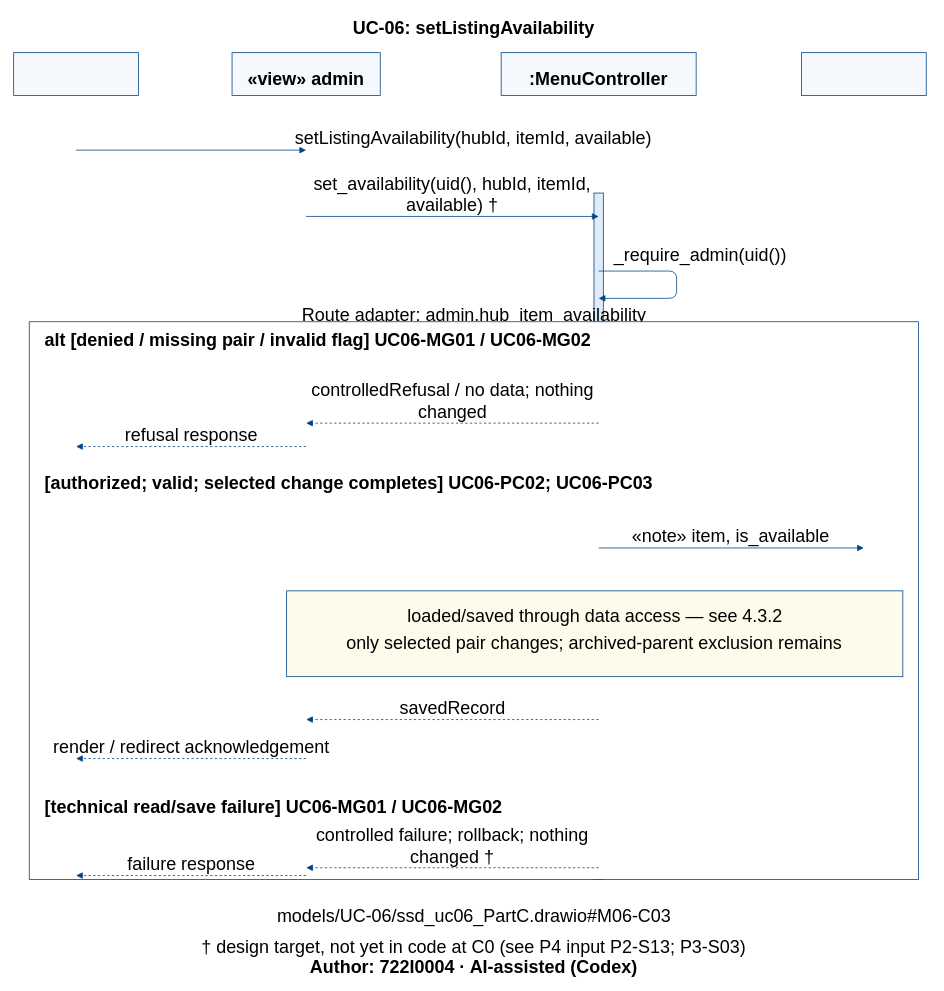
Some shapes in this 944 by 991 pixel diagram are drawn without their labels. Each missing label, with the centre of its shape:
":HubMenuItem" belongs at (x=863, y=74).
"Admin" belongs at (x=75, y=74).
